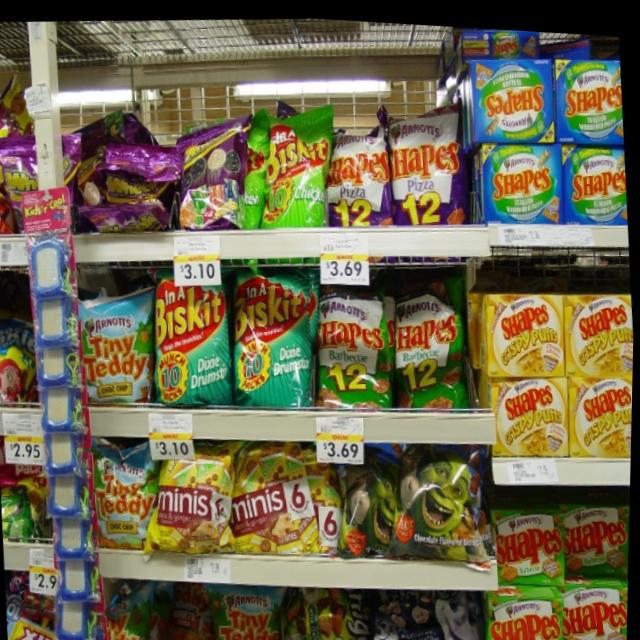q58: (230, 257, 322, 402), (153, 271, 237, 407)
